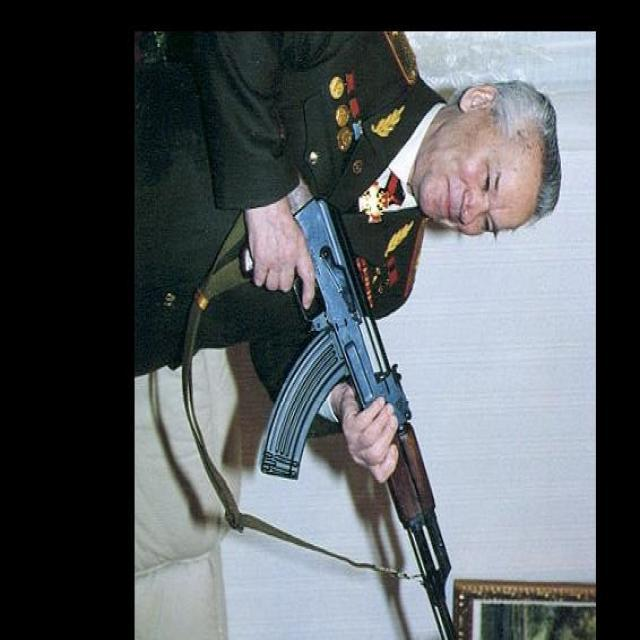weapon: (241, 165, 459, 640)
